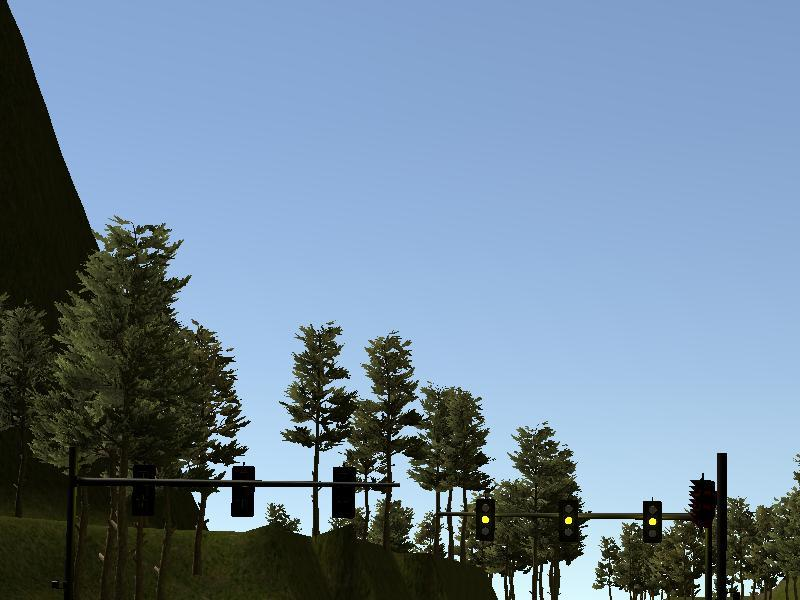Yellow: (475, 500, 495, 540), (644, 500, 662, 543), (561, 500, 579, 542)
